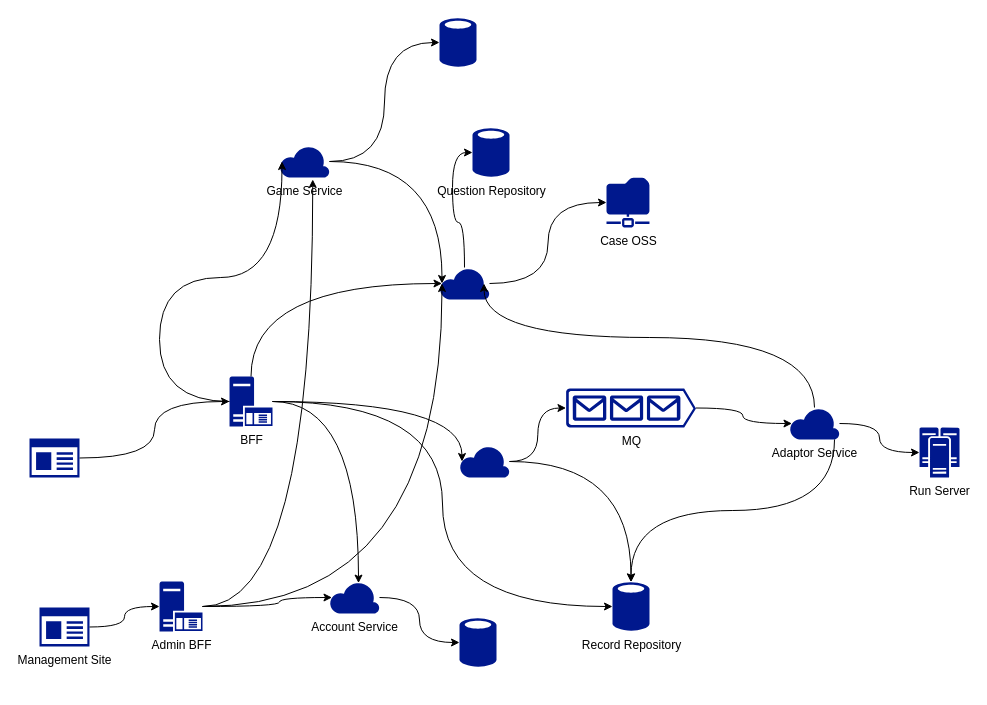
This 987x705 diagram has some shape labels left out. The centre of each missing label's shape, as x and y in pixels:
"Account Repository" belongs at [477,642].
"Application" belongs at [54,457].
"Game Repository" belongs at [457,42].
"Judge Service" belongs at [484,461].
"Question Service" belongs at [464,283].
